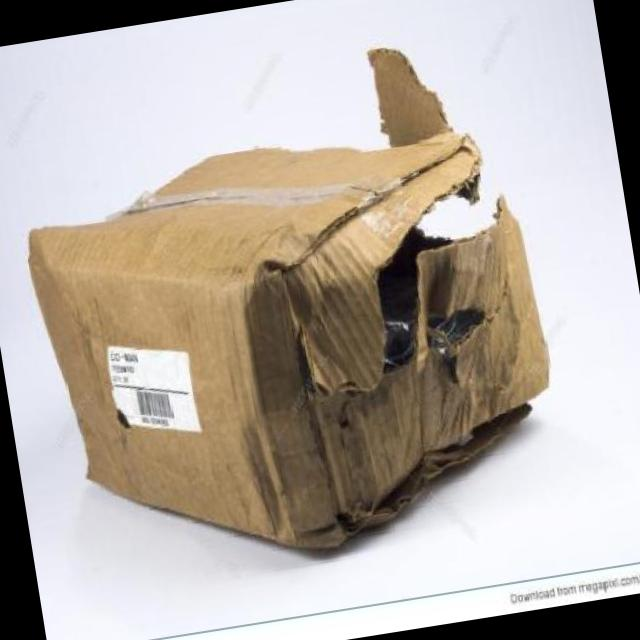tear: (277, 45, 490, 390), (324, 404, 536, 538)
